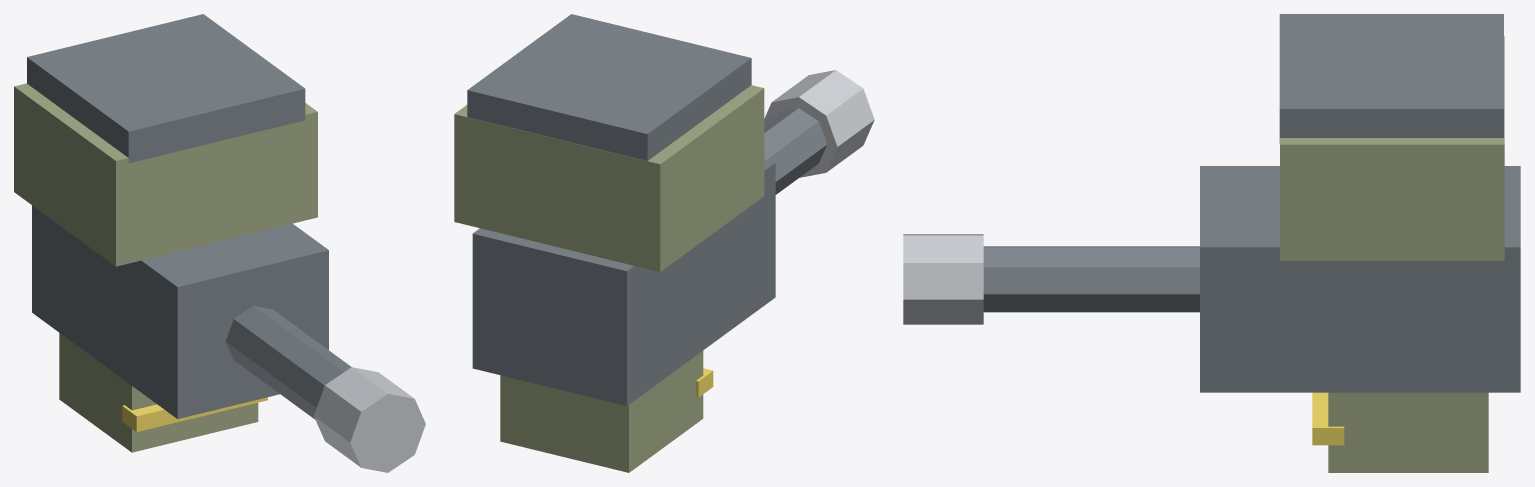
File: mech-hangar-and-battle-frames-quad-arm-feb7a328__26850.glb
3 renders of one model, left to right at view 1: azimuth 30°, elevation 25°; view 2: azimuth 150°, elevation 25°; view 3: azimuth 270°, elevation 25°, orthographic. The views are drawn at different scales.
Visible parts, largest first — view 1: gun (×4), quad-arm; view 2: gun (×3), quad-arm; view 3: gun (×4), quad-arm.
Part boxes in pixels (<box>): gun (×4): <box>32,205,425,472</box>; quad-arm: <box>14,14,317,266</box>; gun (×3): <box>472,70,874,472</box>; quad-arm: <box>454,14,764,271</box>; gun (×4): <box>903,166,1520,472</box>; quad-arm: <box>1279,14,1504,260</box>.
Bounding box in the file's own units: 0.8 × 1.3 × 1.93.
